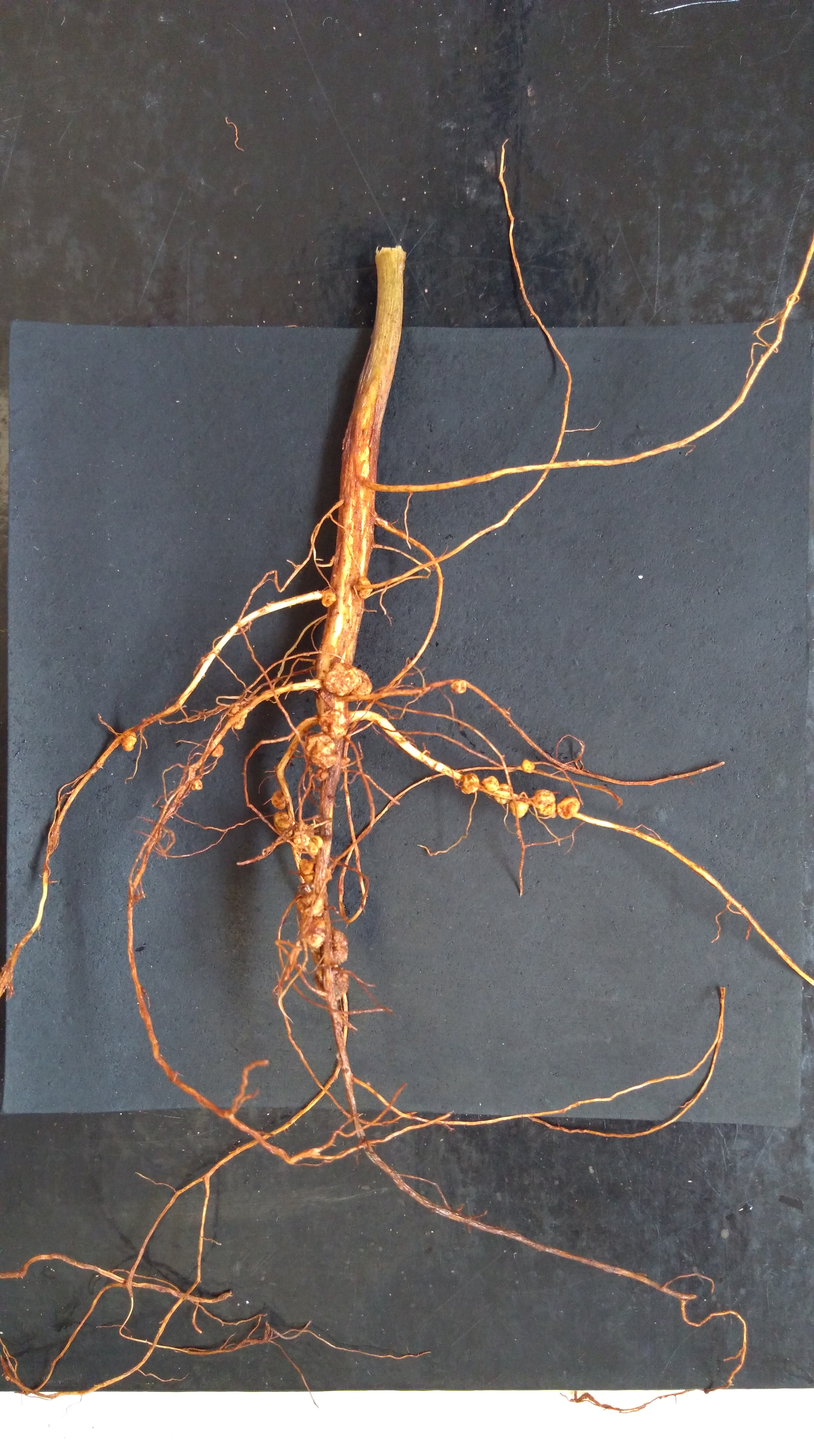nodule: (322, 660, 364, 699), (300, 732, 342, 768), (317, 707, 350, 741), (319, 969, 354, 1001), (329, 927, 353, 967), (555, 789, 582, 824), (293, 892, 326, 919), (302, 915, 326, 951), (350, 665, 376, 698), (271, 808, 295, 840), (534, 786, 557, 819), (506, 792, 529, 820), (227, 700, 247, 730), (296, 857, 318, 884), (118, 729, 141, 754), (459, 770, 481, 796), (268, 786, 289, 811), (494, 780, 513, 806), (320, 584, 339, 609), (480, 770, 501, 792), (358, 575, 375, 601), (449, 677, 470, 697), (305, 834, 324, 855), (521, 756, 538, 776), (314, 766, 330, 783), (209, 742, 226, 758), (190, 778, 205, 792)
